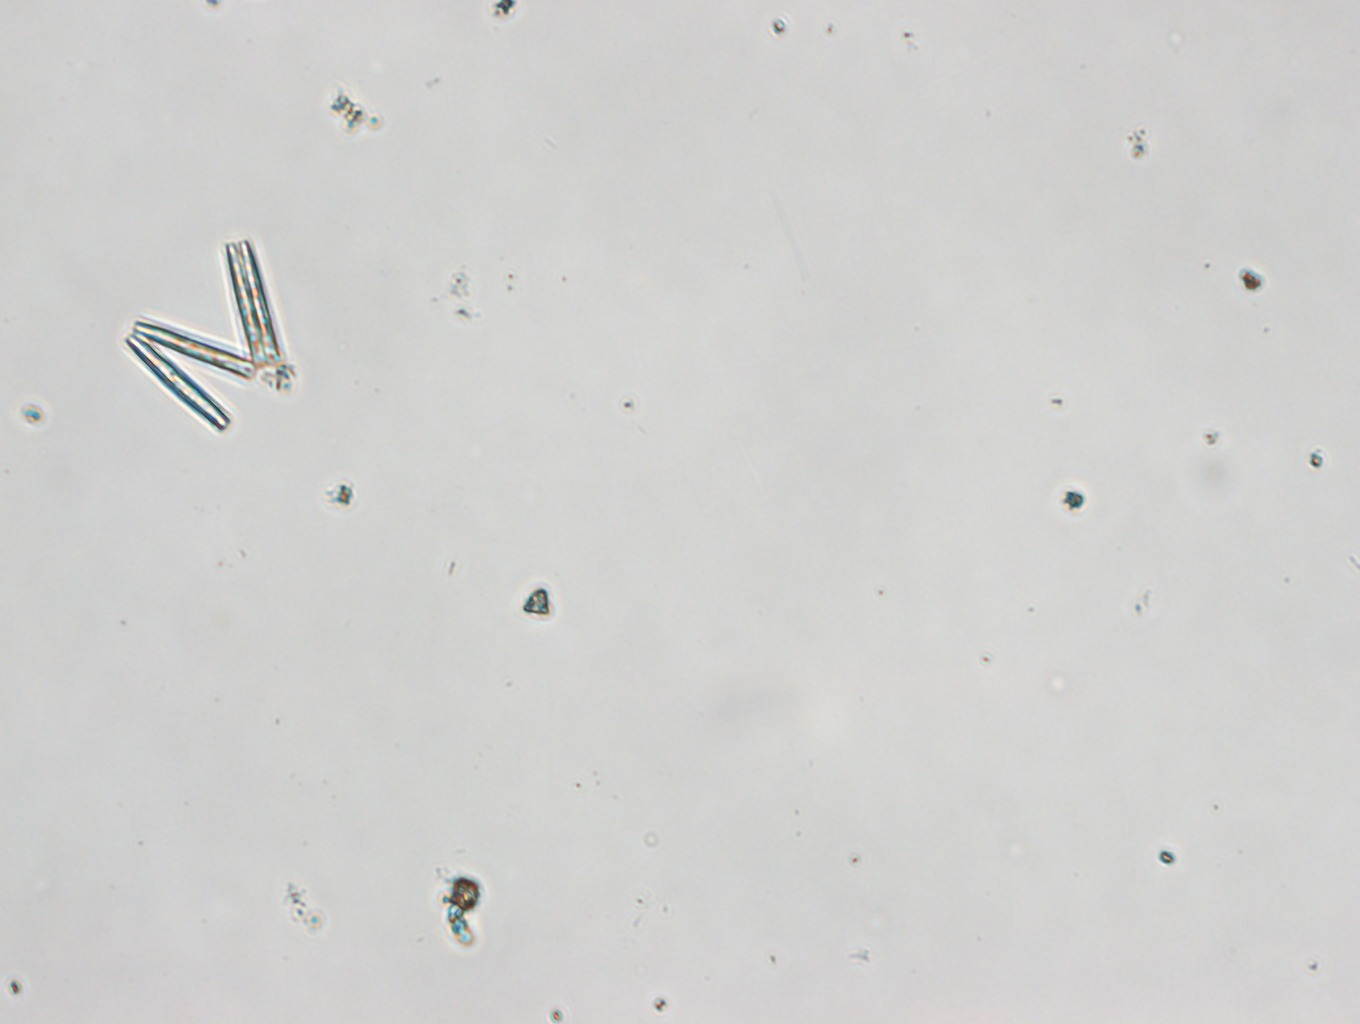thalassionema nitzschioides: (124, 239, 286, 435)
